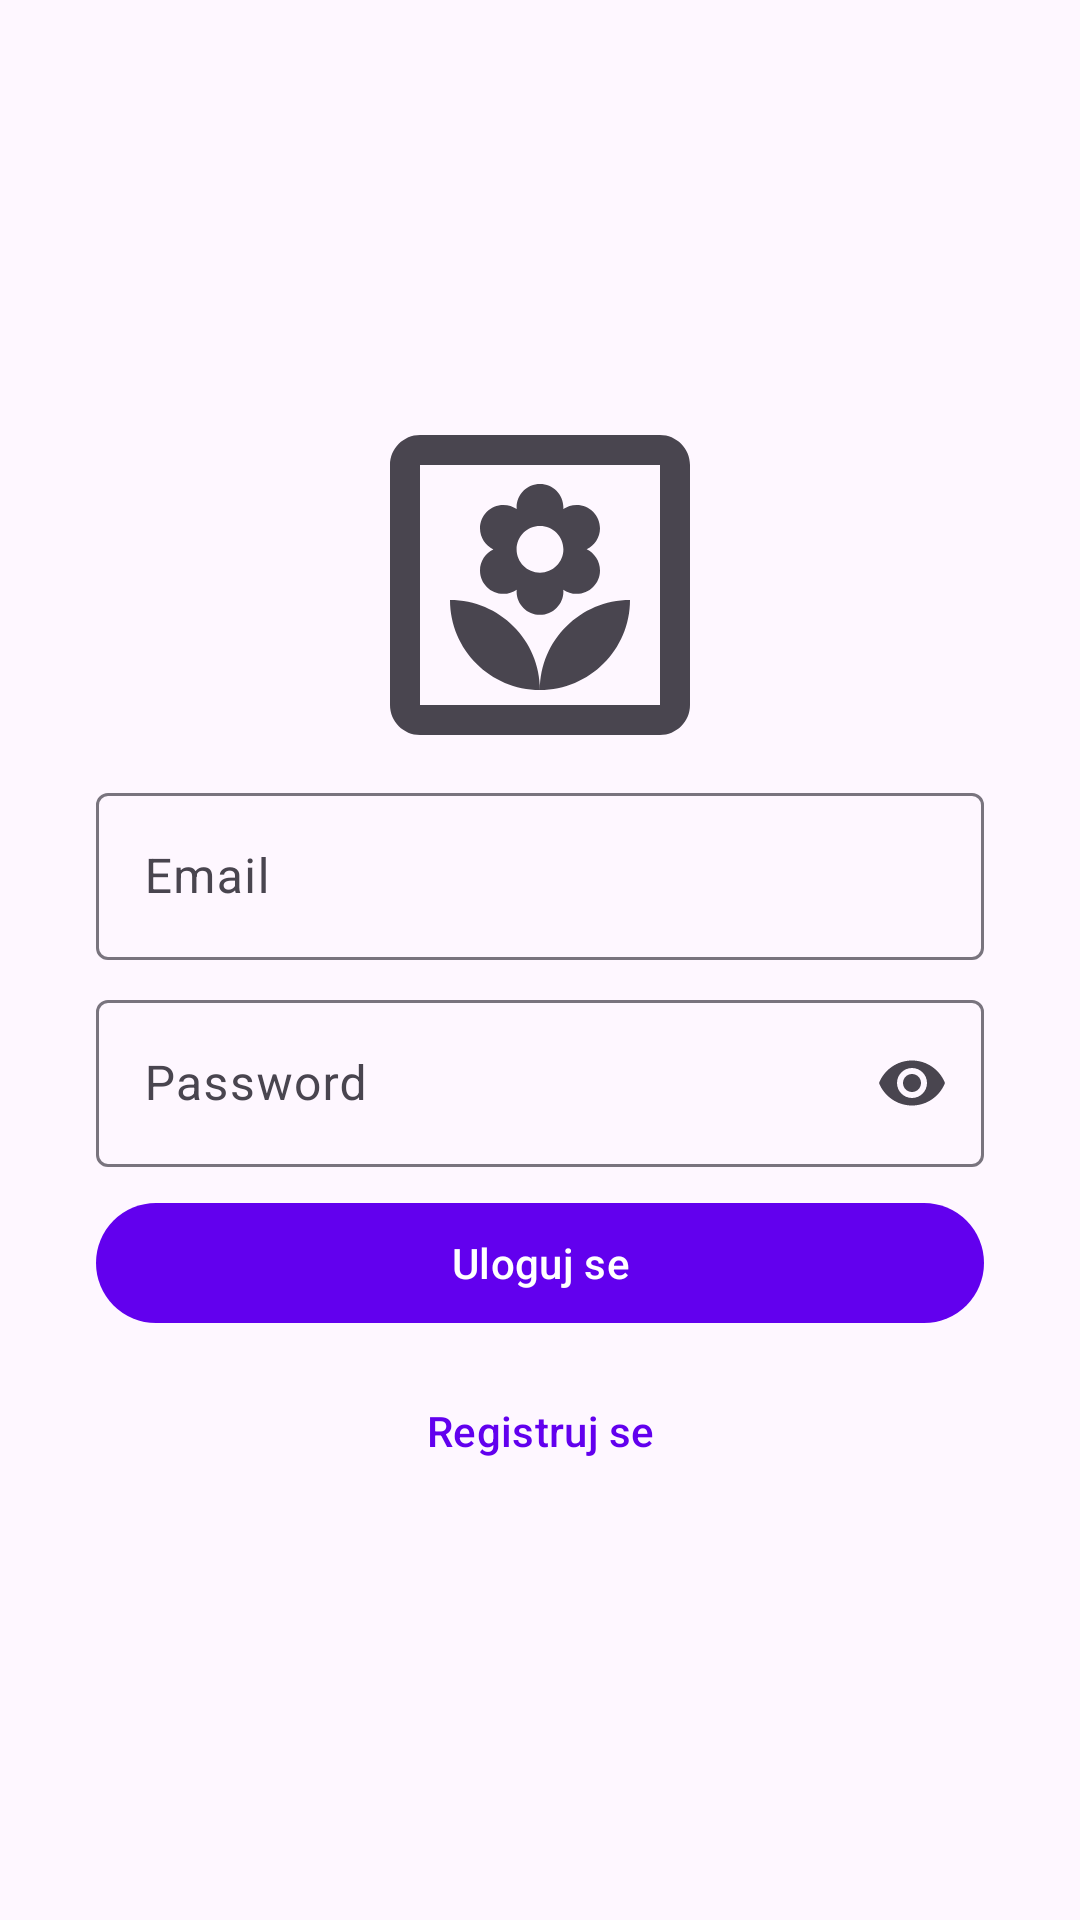

Where icons sit on this 1080w x 1920h app screen, as (x1, y1, x2, y2):
yard: (390, 435, 690, 735)
